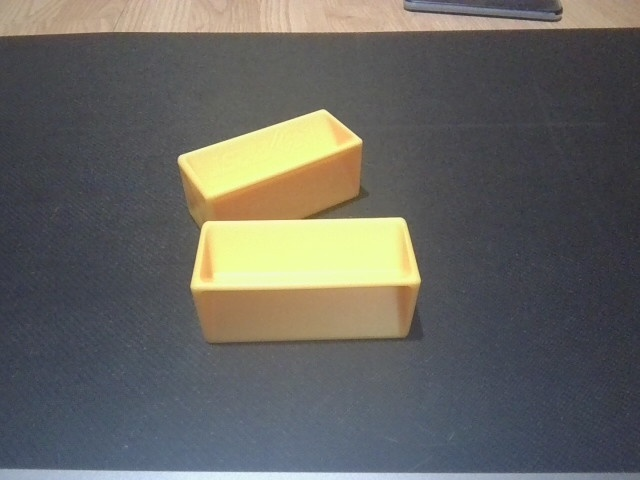YellowSample: (189, 214, 425, 346), (173, 105, 368, 230)
